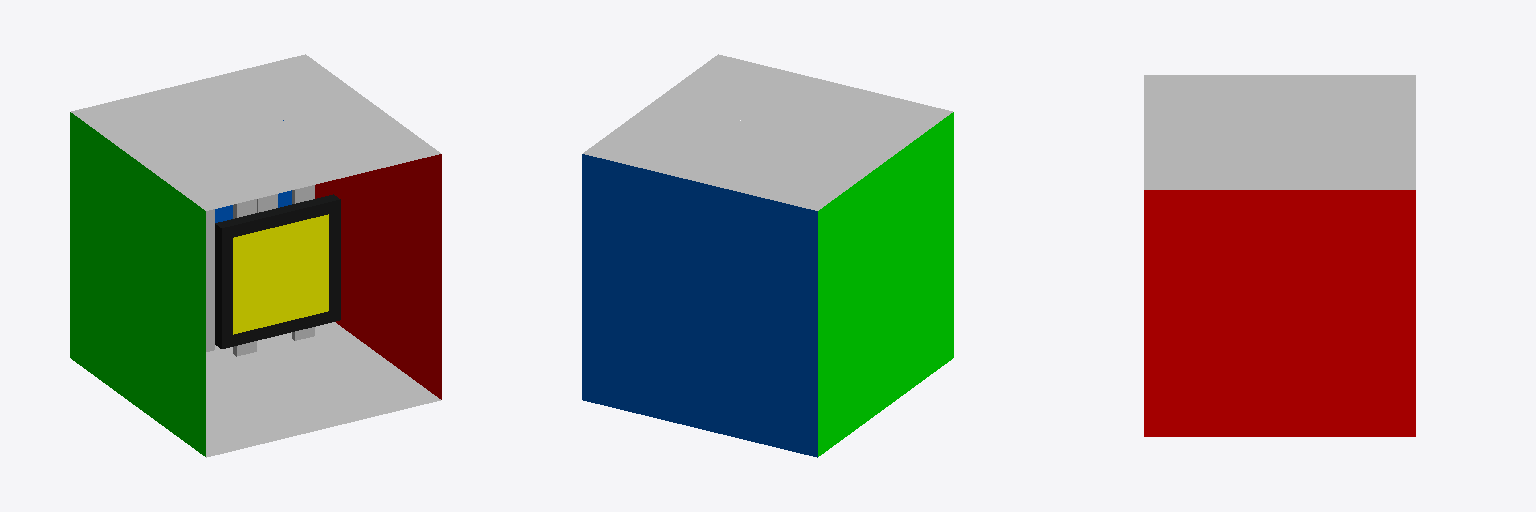
Rendered from transparent_border.obj.
3 views of the same model, side by side, from view 1: azimuth 30°, elevation 25°; view 2: azimuth 150°, elevation 25°; view 3: azimuth 270°, elevation 25° (orthographic).
Parts seen in each view (by area): view 1: Plane.001, Plane.004, Plane.002, Plane, Cube.001_Cube.009, Cube.001_Cube.003, Plane.005_Plane.006, Cube.001_Cube.001, Cube.001_Cube.004_Cube.001_Cube.005, Cube.004_Cube.006, Cube.001_Cube.002, Cube.005_Cube.007 (+1 smaller); view 2: Plane.003, Plane.001, Plane.004, Plane.005_Plane.006; view 3: Plane.002, Plane.004, Plane.005_Plane.006.
Boxes of the visible parts, box(x1,y1,x2,y2) form: Plane.001: box(70, 112, 205, 456); Plane.004: box(71, 54, 440, 210); Plane.002: box(315, 154, 441, 399); Plane: box(206, 322, 440, 457); Cube.001_Cube.009: box(233, 214, 328, 334); Cube.001_Cube.003: box(215, 194, 340, 239); Plane.005_Plane.006: box(212, 110, 300, 146); Cube.001_Cube.001: box(215, 236, 232, 336); Cube.001_Cube.004_Cube.001_Cube.005: box(215, 308, 340, 348); Cube.004_Cube.006: box(206, 209, 214, 351); Cube.001_Cube.002: box(329, 211, 340, 310); Cube.005_Cube.007: box(233, 199, 256, 356); Plane.003: box(582, 154, 817, 457); Plane.001: box(818, 112, 953, 456); Plane.004: box(583, 54, 952, 210); Plane.005_Plane.006: box(715, 116, 803, 152); Plane.002: box(1144, 190, 1415, 436); Plane.004: box(1144, 75, 1415, 189); Plane.005_Plane.006: box(1255, 121, 1320, 148).
Bounding box in the file's own units: 8.28 × 8.28 × 8.28.